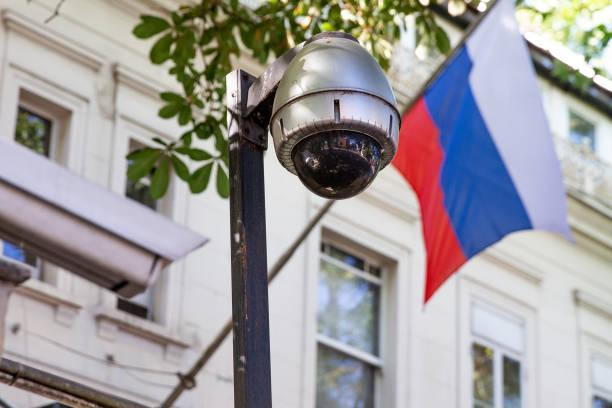camera: (205, 30, 420, 209)
